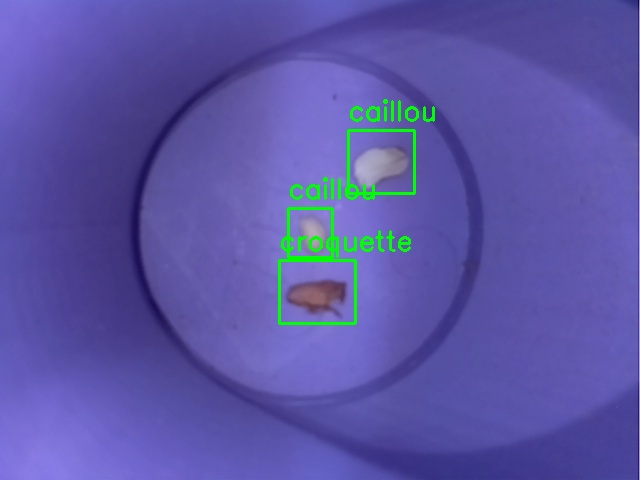caillou: (348, 130, 414, 193), (288, 208, 332, 257)
croquette: (279, 260, 355, 323)
